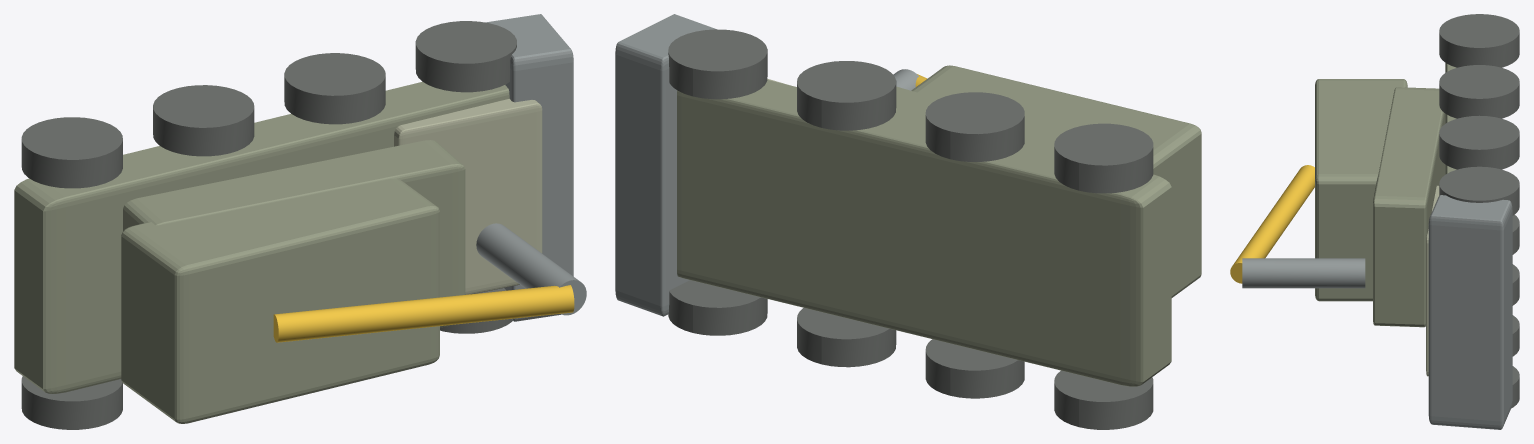
The model's file is v-u18-vanguard-recovery-vehicle-lod1.glb.
3 renders of one model, left to right at view 1: azimuth 30°, elevation 25°; view 2: azimuth 150°, elevation 25°; view 3: azimuth 270°, elevation 25°, orthographic. The views are drawn at different scales.
Parts seen in each view (by area): view 1: recovery_superstructure, chassis_lower, upper_hull, chassis_nose, dozer_blade, service_boom, chassis_wheel_1_2, chassis_wheel_1_1, chassis_wheel_1_0, chassis_wheel_1_3, chassis_wheel_-1_0, winch (+1 smaller); view 2: chassis_lower, dozer_blade, recovery_superstructure, chassis_wheel_1_0, chassis_wheel_1_1, chassis_wheel_1_2, chassis_wheel_1_3, chassis_wheel_-1_0, chassis_wheel_-1_1, chassis_wheel_-1_2, chassis_wheel_-1_3, upper_hull; view 3: dozer_blade, upper_hull, recovery_superstructure, chassis_wheel_1_0, chassis_wheel_1_1, chassis_wheel_1_2, winch, service_boom, chassis_wheel_1_3, chassis_nose, chassis_wheel_-1_3, chassis_wheel_-1_1 (+2 smaller).
Part boxes in pixels (bbox=[...]): recovery_superstructure: bbox=[121, 178, 439, 423]; chassis_lower: bbox=[14, 82, 509, 393]; upper_hull: bbox=[123, 140, 465, 327]; chassis_nose: bbox=[394, 98, 542, 294]; dozer_blade: bbox=[485, 14, 573, 321]; service_boom: bbox=[273, 285, 574, 342]; chassis_wheel_1_2: bbox=[284, 53, 385, 124]; chassis_wheel_1_1: bbox=[153, 85, 254, 156]; chassis_wheel_1_0: bbox=[21, 117, 122, 188]; chassis_wheel_1_3: bbox=[415, 21, 516, 92]; chassis_wheel_-1_0: bbox=[21, 376, 122, 429]; winch: bbox=[476, 223, 586, 315]; chassis_lower: bbox=[677, 80, 1171, 386]; dozer_blade: bbox=[615, 14, 717, 316]; recovery_superstructure: bbox=[911, 65, 1201, 297]; chassis_wheel_1_0: bbox=[1054, 123, 1153, 193]; chassis_wheel_1_1: bbox=[925, 92, 1024, 161]; chassis_wheel_1_2: bbox=[797, 61, 896, 130]; chassis_wheel_1_3: bbox=[668, 29, 767, 99]; chassis_wheel_-1_0: bbox=[1054, 370, 1153, 429]; chassis_wheel_-1_1: bbox=[925, 339, 1024, 398]; chassis_wheel_-1_2: bbox=[797, 308, 896, 367]; chassis_wheel_-1_3: bbox=[668, 280, 767, 335]; upper_hull: bbox=[896, 86, 1059, 149]; dozer_blade: bbox=[1428, 195, 1512, 429]; upper_hull: bbox=[1373, 87, 1445, 327]; recovery_superstructure: bbox=[1315, 79, 1407, 301]; chassis_wheel_1_0: bbox=[1439, 14, 1519, 67]; chassis_wheel_1_1: bbox=[1439, 65, 1519, 118]; chassis_wheel_1_2: bbox=[1439, 115, 1519, 169]; winch: bbox=[1242, 258, 1365, 288]; service_boom: bbox=[1230, 165, 1314, 283]; chassis_wheel_1_3: bbox=[1439, 166, 1519, 215]; chassis_nose: bbox=[1426, 185, 1439, 376]; chassis_wheel_-1_3: bbox=[1511, 366, 1519, 408]; chassis_wheel_-1_1: bbox=[1512, 264, 1519, 305].
Size of what is drawn, in the model's own units: 7.52 by 3.64 by 4.45.
